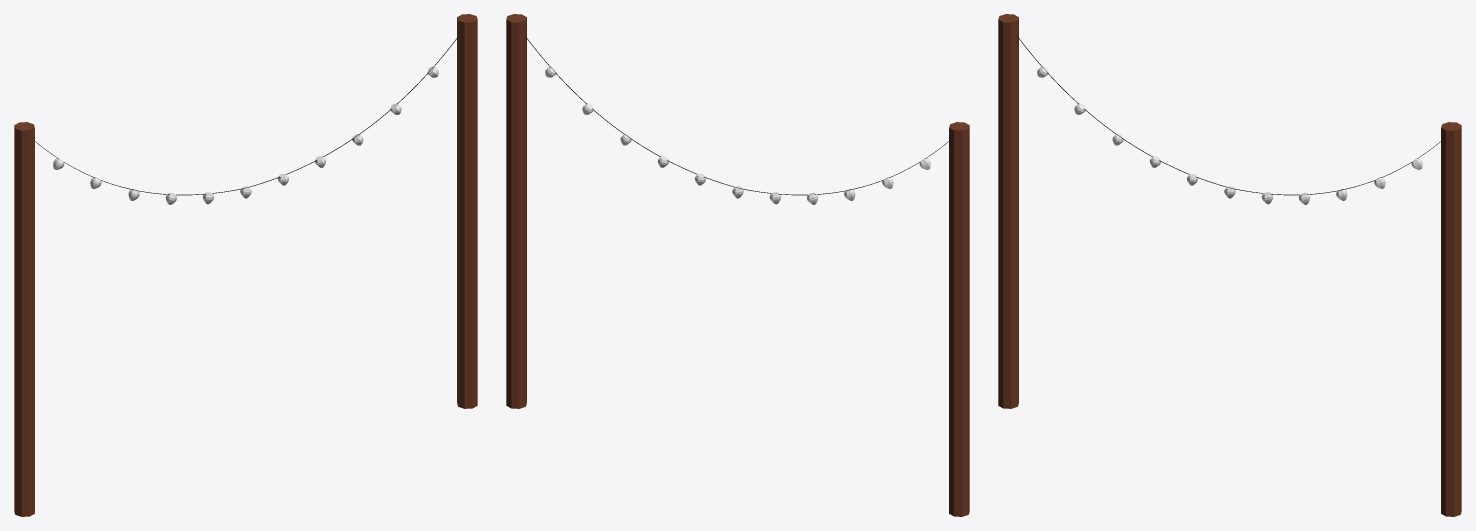
File: Lights.fbx
3 views of the same model, side by side, from view 1: azimuth 30°, elevation 25°; view 2: azimuth 150°, elevation 25°; view 3: azimuth 330°, elevation 25° (orthographic).
Visible parts, largest first — view 1: LightsConnected.011, LightsConnected.012; view 2: LightsConnected.011, LightsConnected.012; view 3: LightsConnected.011, LightsConnected.012.
Boxes of the visible parts, left/top/right/bottom form: LightsConnected.011: left=14, top=122, right=34, bottom=516; LightsConnected.012: left=457, top=14, right=477, bottom=408; LightsConnected.011: left=949, top=122, right=969, bottom=516; LightsConnected.012: left=506, top=14, right=526, bottom=408; LightsConnected.011: left=998, top=14, right=1018, bottom=408; LightsConnected.012: left=1441, top=122, right=1461, bottom=516.
Bounding box in the file's own units: 1250 × 1000 × 50.
